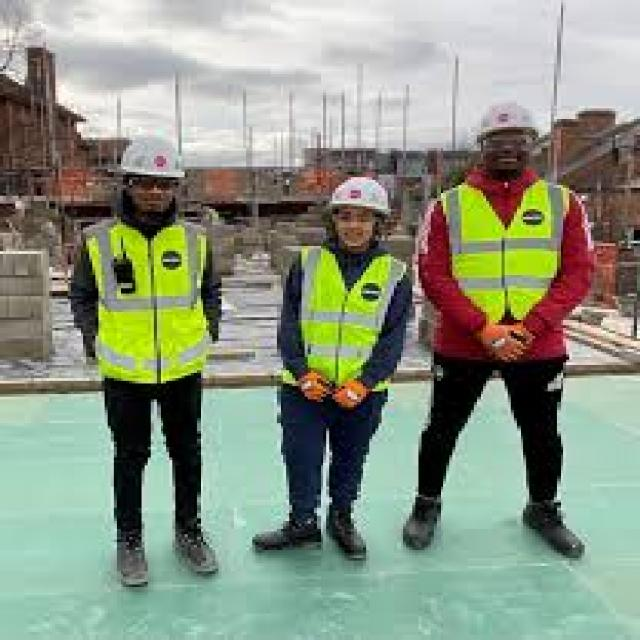Reflective-Jacket: (424, 172, 588, 352), (65, 217, 222, 391), (280, 238, 409, 405)
Safety-Helmet: (108, 127, 197, 188), (464, 92, 544, 146), (317, 169, 397, 222)
